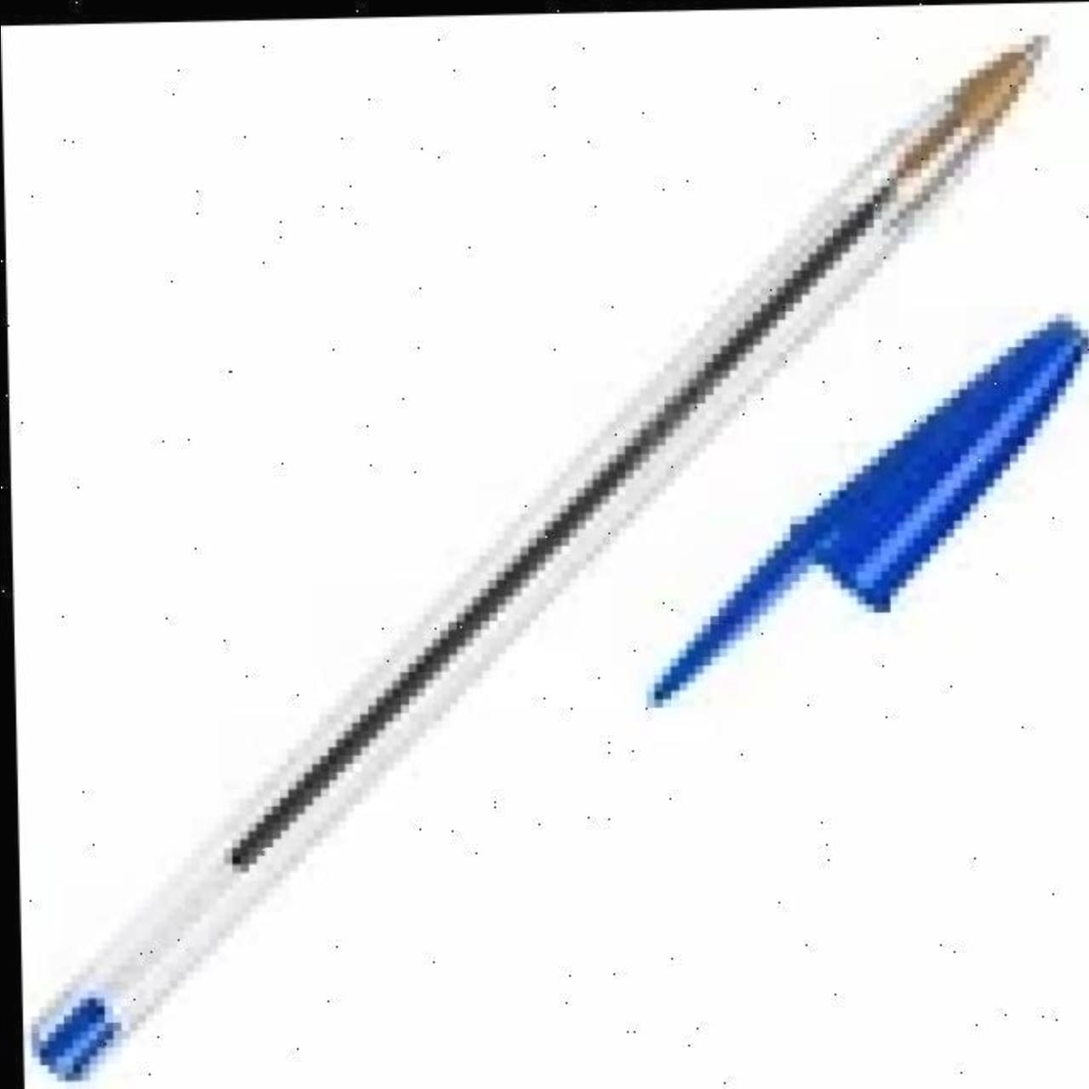pen: (9, 34, 1089, 1089)
